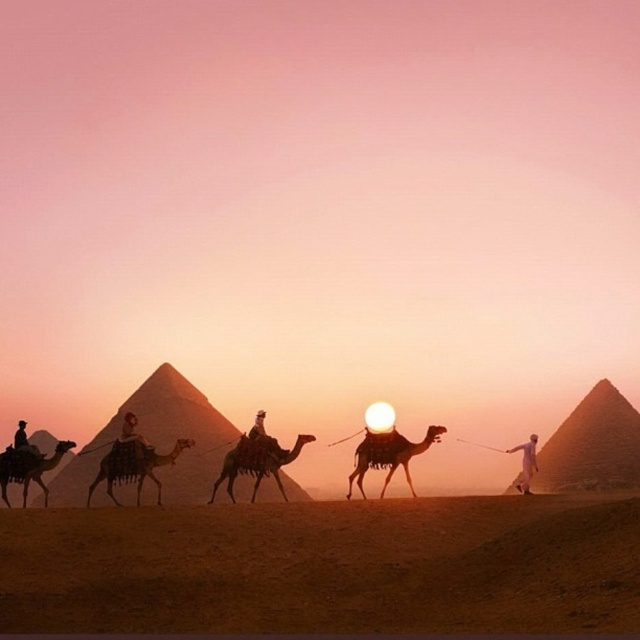Camel: (345, 424, 449, 501), (208, 435, 321, 504), (88, 437, 195, 507), (0, 444, 74, 510)
